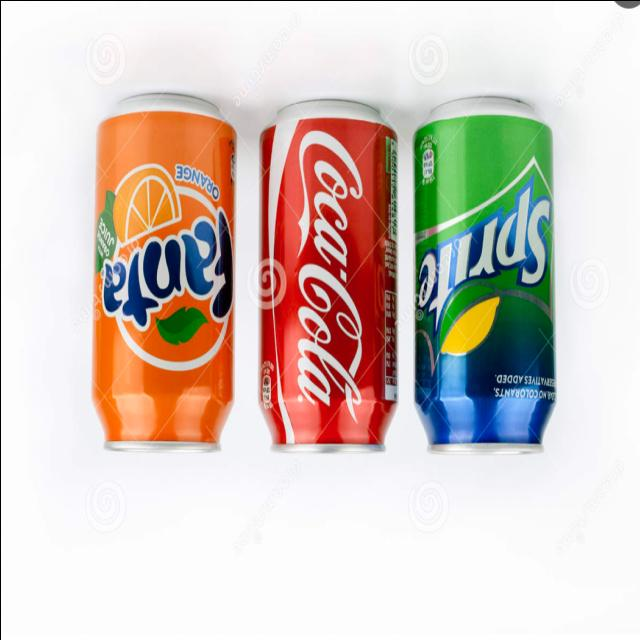can: (79, 92, 248, 490), (246, 89, 414, 483), (406, 89, 570, 484)
